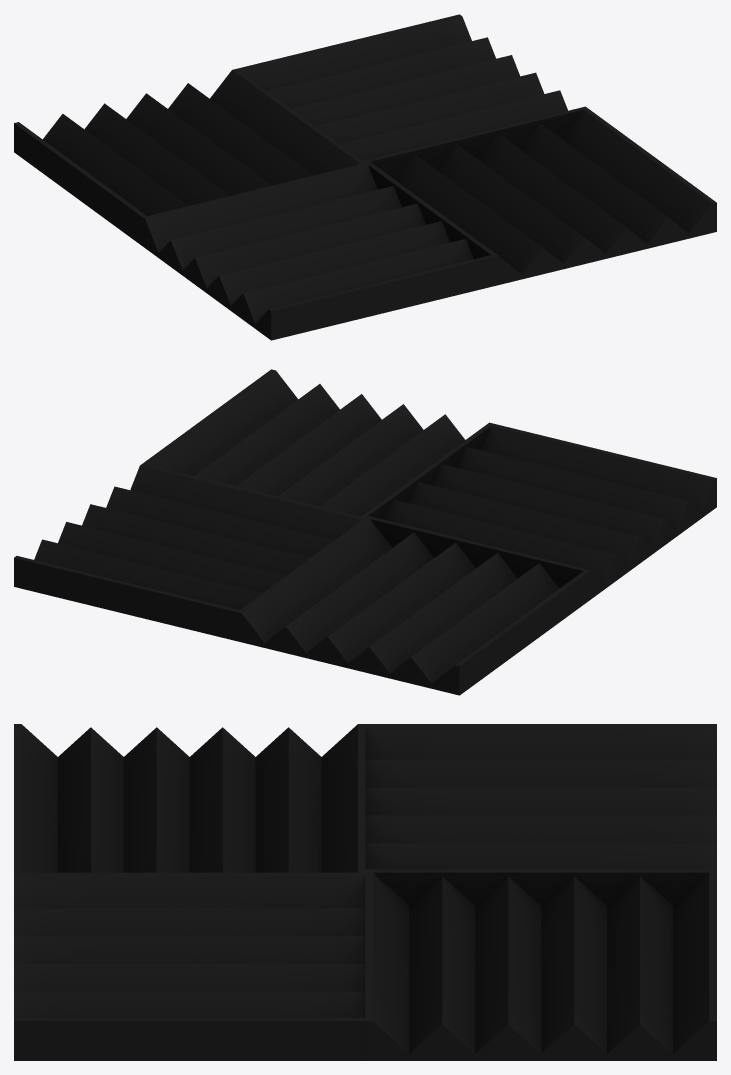
The model's file is sound_proof_panel.glb.
3 renders of one model, top to bottom at view 1: azimuth 30°, elevation 25°; view 2: azimuth 150°, elevation 25°; view 3: azimuth 270°, elevation 25°, orthographic. The views are drawn at different scales.
Parts seen in each view (by area): view 1: Object_2; view 2: Object_2; view 3: Object_2.
Boxes of the visible parts, box(x1,y1,x2,y2) form: Object_2: box(14, 14, 716, 340); Object_2: box(14, 369, 716, 695); Object_2: box(14, 724, 716, 1060).
Bounding box in the file's own units: 16 × 1 × 16.
1 material, 1 textured.
